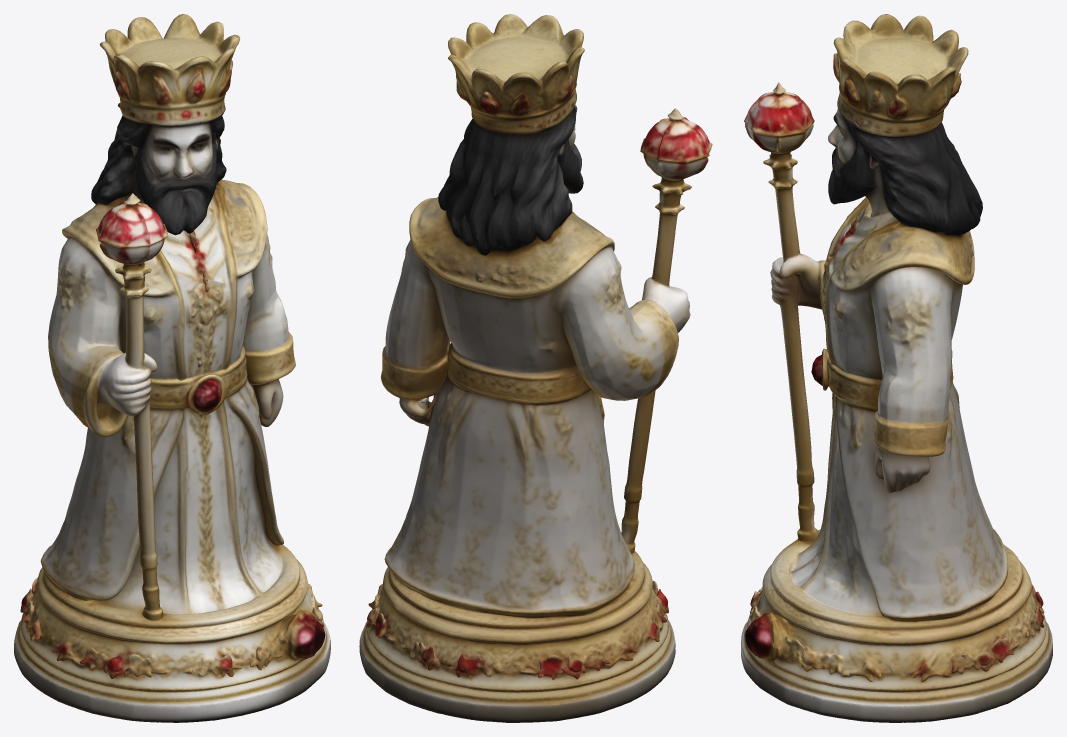
Rendered from sample_2026-11-06T110725.578.glb.
3 views of the same model, side by side, from view 1: azimuth 30°, elevation 25°; view 2: azimuth 150°, elevation 25°; view 3: azimuth 270°, elevation 25° (orthographic).
Parts seen in each view (by area): view 1: world; view 2: world; view 3: world.
Boxes of the visible parts, <box> form: world: <box>14,14,330,722</box>; world: <box>359,14,712,722</box>; world: <box>741,14,1052,722</box>.
Size of the model in its own units: 0.4567 by 0.9988 by 0.456.
1 material, 1 textured.
